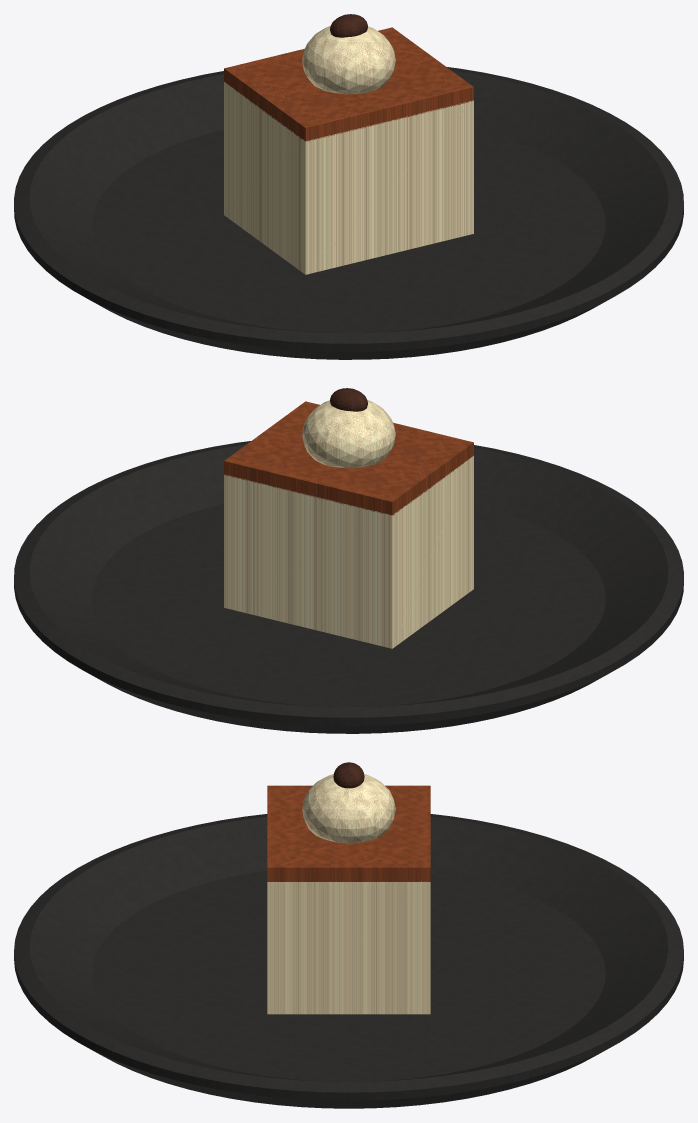
File: tres-leches-cafe.glb
The picture shows the model from 3 angles, top to bottom: view 1: azimuth 30°, elevation 25°; view 2: azimuth 150°, elevation 25°; view 3: azimuth 270°, elevation 25°; orthographic projection.
Visible parts, largest first — view 1: part0, part1, part2, part3; view 2: part0, part1, part2, part3; view 3: part0, part1, part2, part3.
Boxes of the visible parts, x1=… form: part0: x1=14, y1=67, x2=683, y2=359; part1: x1=224, y1=26, x2=473, y2=274; part2: x1=224, y1=27, x2=473, y2=141; part3: x1=330, y1=14, x2=367, y2=37; part0: x1=14, y1=441, x2=683, y2=733; part1: x1=224, y1=400, x2=473, y2=648; part2: x1=224, y1=401, x2=473, y2=515; part3: x1=330, y1=388, x2=367, y2=411; part0: x1=14, y1=814, x2=683, y2=1108; part1: x1=267, y1=774, x2=430, y2=1014; part2: x1=267, y1=785, x2=430, y2=881; part3: x1=333, y1=762, x2=364, y2=788.
Size of the model in its own units: 0.3 by 0.115 by 0.3.
4 materials, 4 textured.
